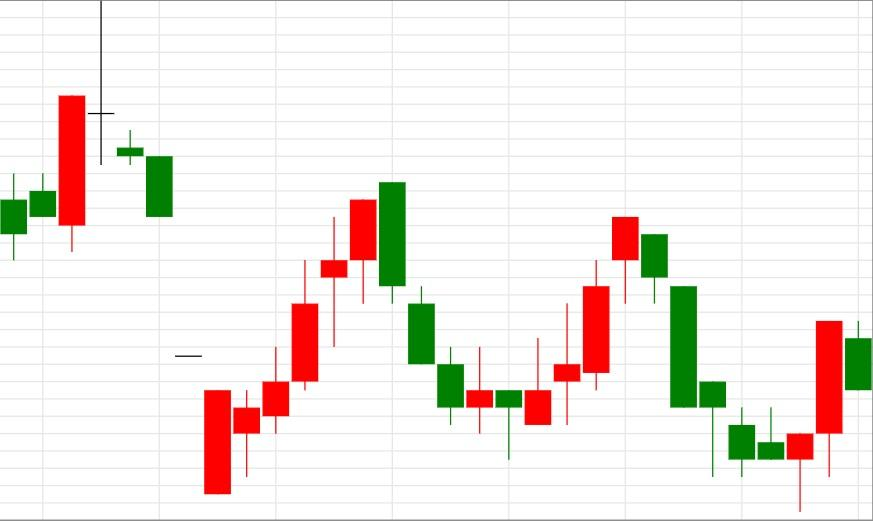bearish_engulfing_fall: (203, 182, 406, 495)
three_black_crows_fall: (203, 182, 465, 495)
